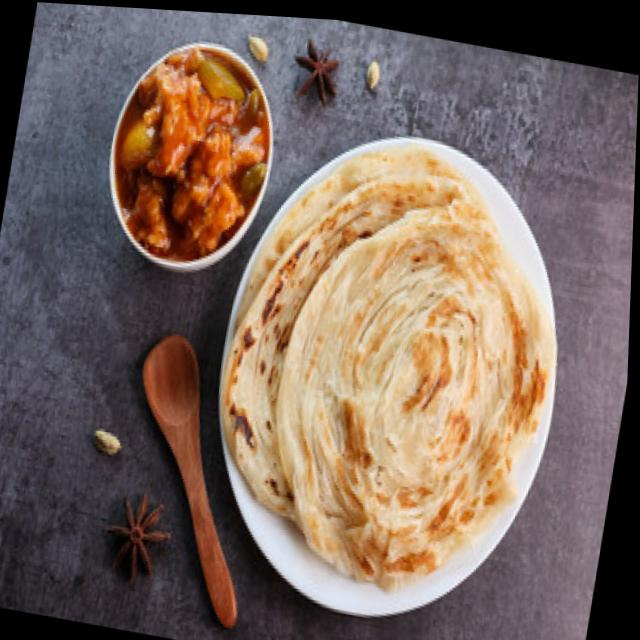KURMA: (119, 52, 268, 251)
PAROTTA: (229, 141, 540, 574)
